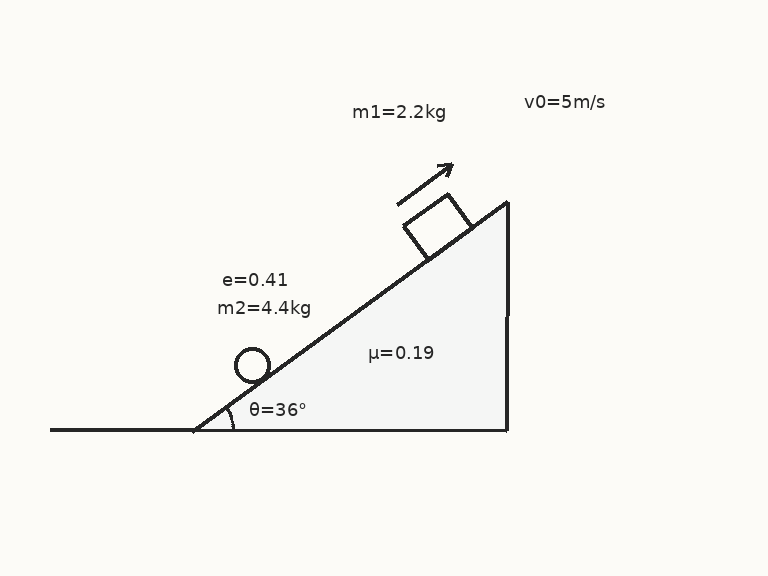ball: (232, 345, 272, 385)
block: (401, 192, 474, 262)
ramp: (191, 200, 509, 432)
